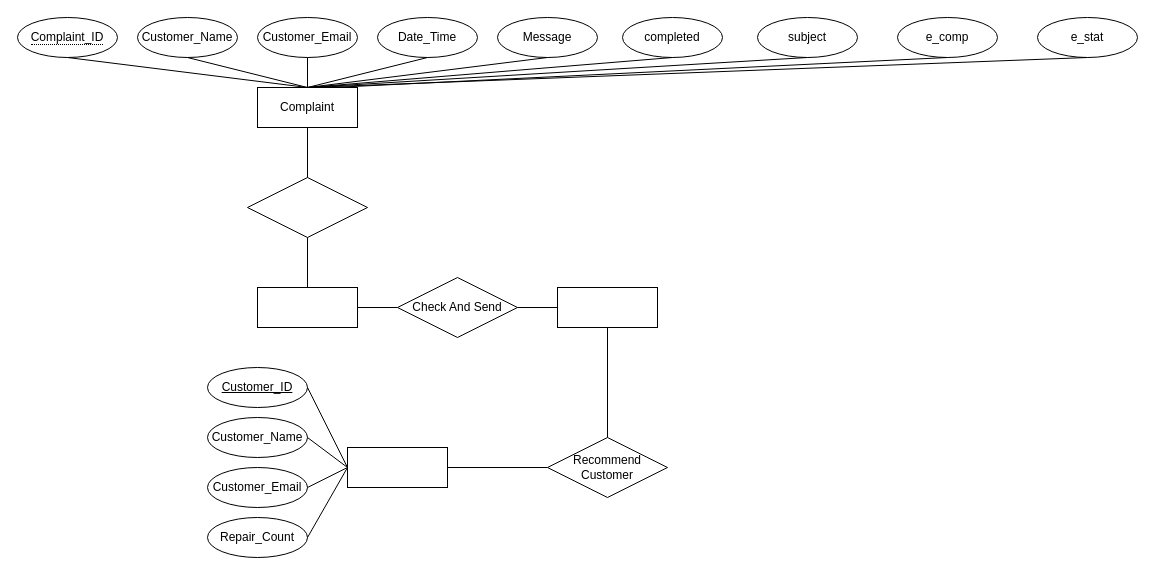
This 1155x575 diagram has some shape labels left out. The box of each missing label's shape, as (x1, y1, x2, y2) in pixels:
Admin: (256, 286, 358, 328)
Customer: (346, 446, 448, 488)
Engineer: (556, 286, 658, 328)
Receive: (246, 176, 368, 238)
